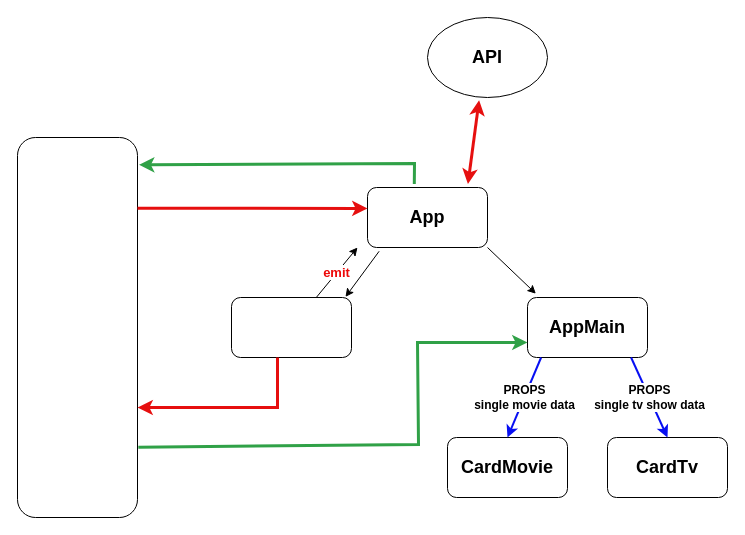
Some shapes in this 745 by 535 pixel diagram are drawn without their labels. Each missing label, with the centre of its shape:
"AppHeader" belongs at pixel 291 327.
"STORE -searched term -movie list -tv show list" belongs at pixel 77 327.
